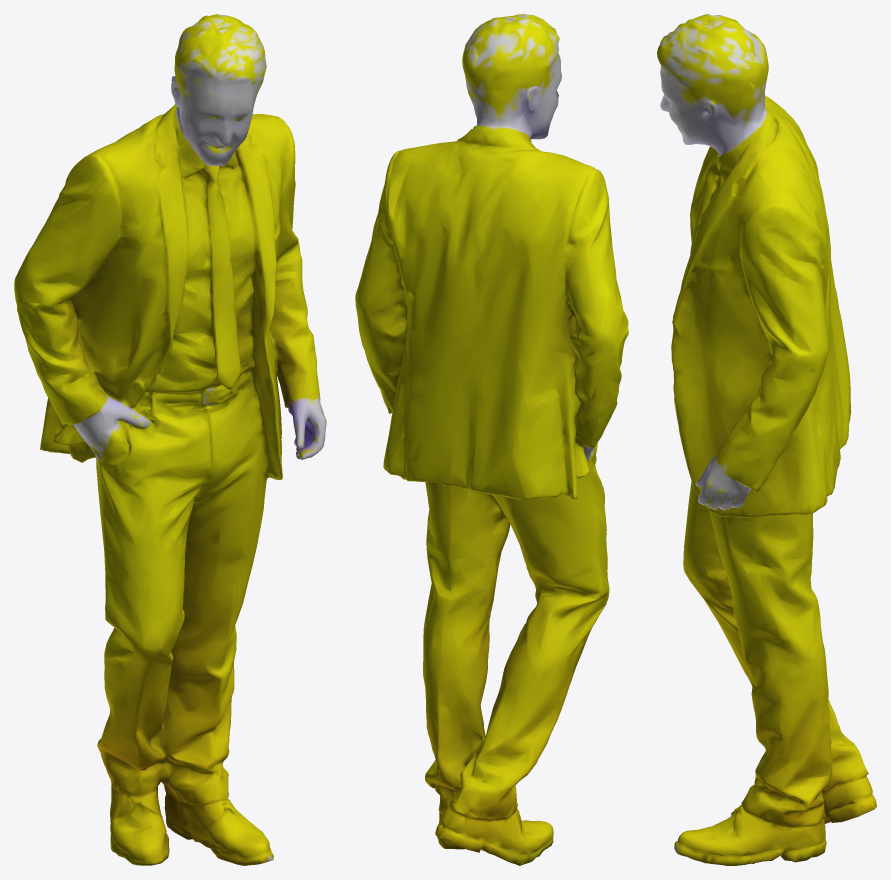
File: dennis.glb
The picture shows the model from 3 angles, left to right: view 1: azimuth 30°, elevation 25°; view 2: azimuth 150°, elevation 25°; view 3: azimuth 270°, elevation 25°; orthographic projection. The views are drawn at different scales.
Parts seen in each view (by area): view 1: person; view 2: person; view 3: person.
Part boxes in pixels (<box>): person: <box>14,14,326,865</box>; person: <box>355,14,628,865</box>; person: <box>657,14,876,865</box>.
Size of the model in its own units: 0.6419 by 1.87 by 0.4498.
